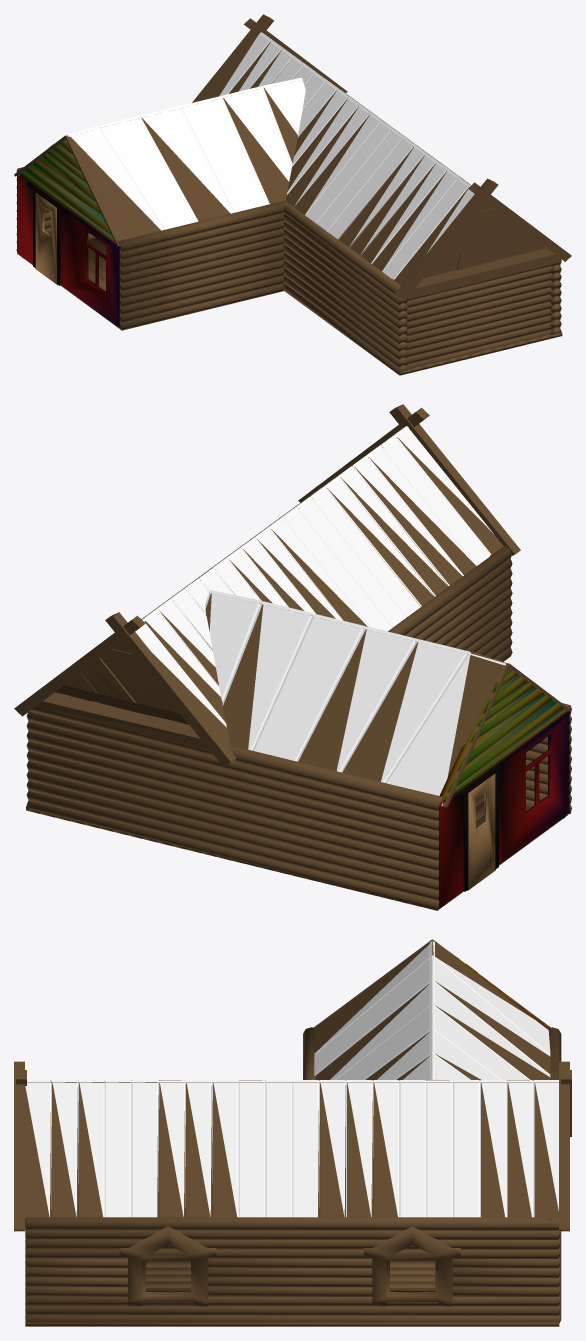
File: snow_house_4.fbx
3 views of the same model, one above another, from view 1: azimuth 30°, elevation 25°; view 2: azimuth 150°, elevation 25°; view 3: azimuth 270°, elevation 25° (orthographic). The views are drawn at different scales.
Parts seen in each view (by area): view 1: Roof_01_b, Roof_01_b.003, Wall_Wide_02_b.003, Wall_Wide_02_b.001, Wall_Narrow_02_b, Wall_Narrow_01_a, Door_01, Wall_Wide_01_b.001, Floor_01_c.001, Floor_01_c; view 2: Roof_01_b, Wall_Wide_02_b.002, Roof_01_b.003, Wall_Narrow_01_a, Wall_Wide_02_b.001, Door_01, Wall_Wide_02_b.003, Floor_01_c; view 3: Roof_01_b, Wall_Wide_01_b.001, Roof_01_b.003, Floor_01_c.001, Wall_Wide_02_b.002, Wall_Wide_02_b.003.
Boxes of the visible parts, x1=… form: Roof_01_b: x1=192, y1=14, x2=571, y2=299; Roof_01_b.003: x1=14, y1=77, x2=305, y2=246; Wall_Wide_02_b.003: x1=116, y1=200, x2=287, y2=330; Wall_Wide_02_b.001: x1=283, y1=202, x2=407, y2=374; Wall_Narrow_02_b: x1=406, y1=265, x2=552, y2=369; Wall_Narrow_01_a: x1=17, y1=140, x2=119, y2=327; Door_01: x1=35, y1=192, x2=57, y2=285; Wall_Wide_01_b.001: x1=345, y1=93, x2=561, y2=334; Floor_01_c.001: x1=399, y1=332, x2=562, y2=375; Floor_01_c: x1=18, y1=238, x2=120, y2=329; Roof_01_b: x1=14, y1=404, x2=520, y2=765; Wall_Wide_02_b.002: x1=28, y1=707, x2=444, y2=910; Roof_01_b.003: x1=205, y1=590, x2=570, y2=807; Wall_Narrow_01_a: x1=439, y1=669, x2=569, y2=907; Wall_Wide_02_b.001: x1=388, y1=546, x2=512, y2=661; Door_01: x1=467, y1=773, x2=495, y2=890; Wall_Wide_02_b.003: x1=481, y1=703, x2=571, y2=818; Floor_01_c: x1=231, y1=795, x2=567, y2=910; Roof_01_b: x1=14, y1=1061, x2=571, y2=1231; Wall_Wide_01_b.001: x1=26, y1=1217, x2=558, y2=1322; Roof_01_b.003: x1=314, y1=939, x2=550, y2=1080; Floor_01_c.001: x1=25, y1=1230, x2=559, y2=1326; Wall_Wide_02_b.002: x1=547, y1=1027, x2=561, y2=1323; Wall_Wide_02_b.003: x1=303, y1=1027, x2=315, y2=1079.
Size of the model in its own units: 854 by 426 by 1013.
